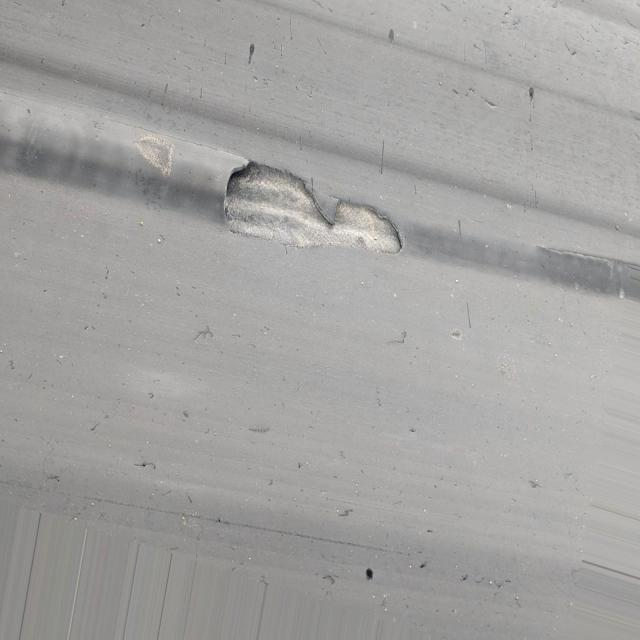Tear: (220, 153, 418, 268)
impact damage: (8, 82, 640, 317)
